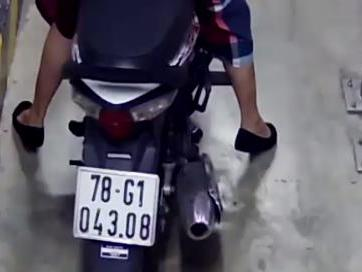num_plate: (75, 165, 159, 247)
